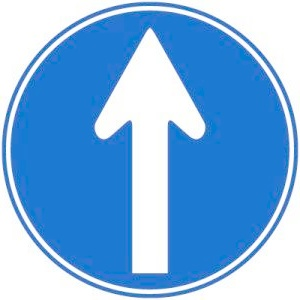Direction_sign: (3, 1, 296, 300)
